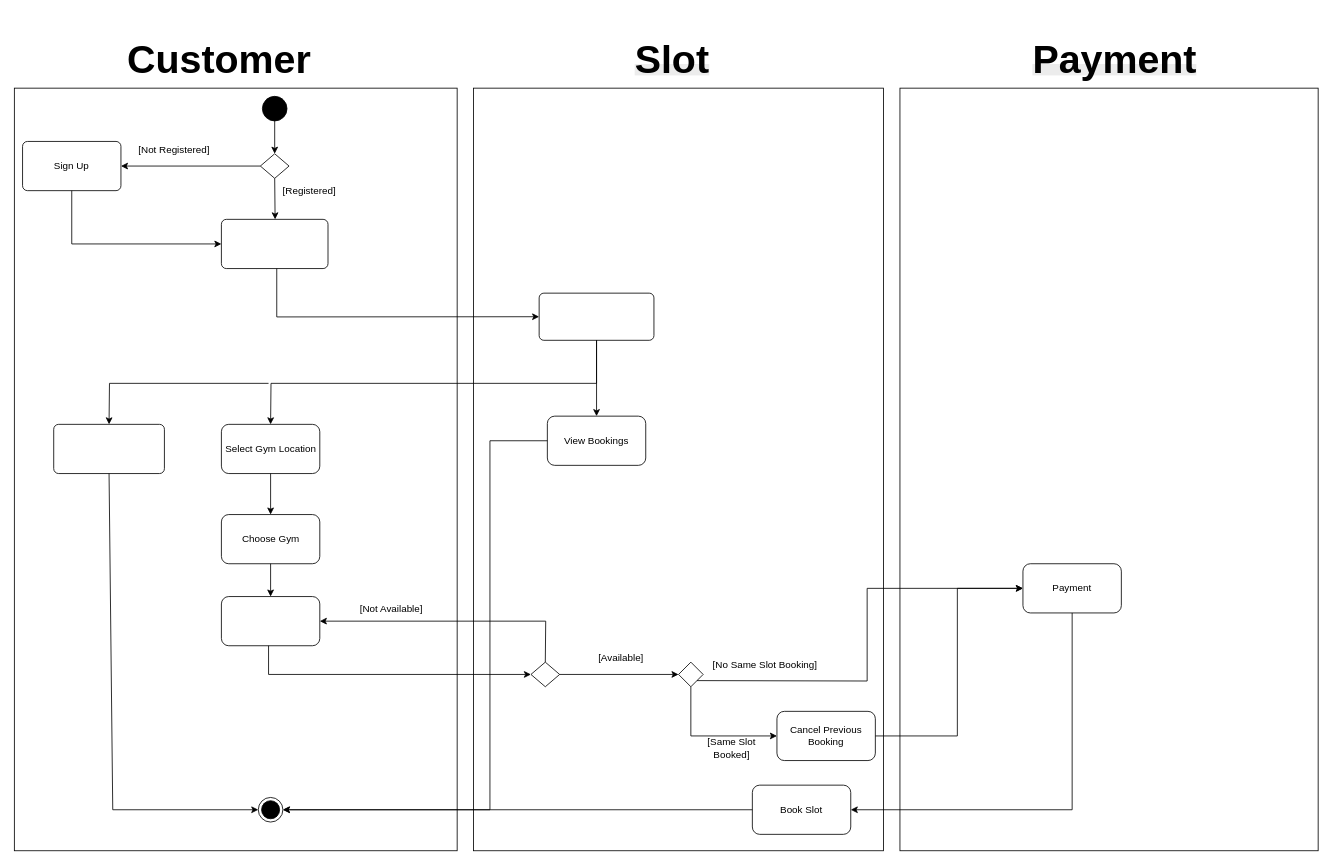
This 1333x865 diagram has some shape labels left out. Here are the shapes that lost their labels. From the top down, the centre of each, then its label:
At point 274,244: "Sign In".
At point 596,316: "HomePage".
At point 108,449: "Edit Profile".
At point 270,621: "Choose Slot".
